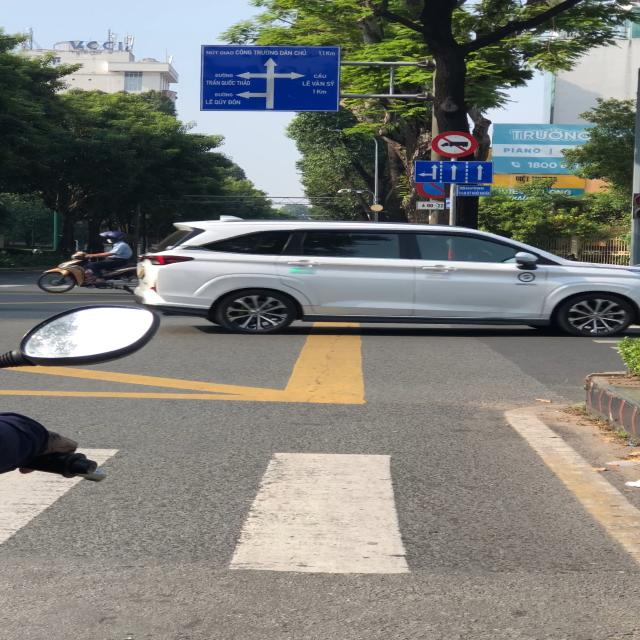Bien bao cam xe so-mi ro-mooc: (429, 128, 482, 158)
